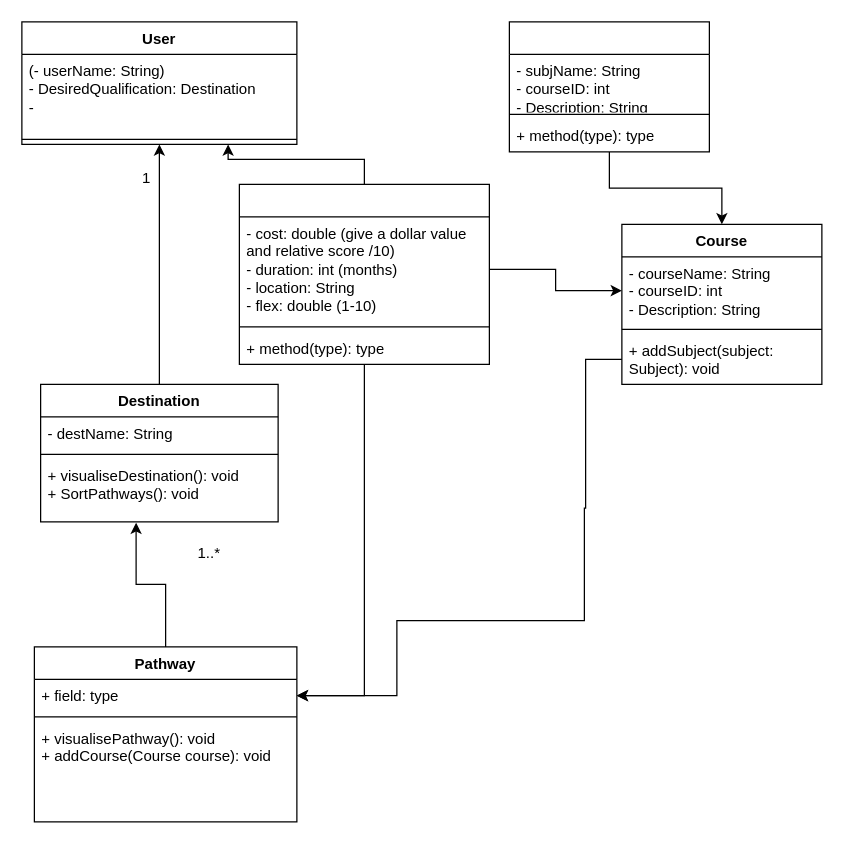
Image size: 844x848. Some labels were removed from this diagram. The box of each missing label's shape, as (x1, y1, x2, y2) in pixels:
Preferences: (238, 183, 489, 364)
Subject: (508, 21, 709, 152)
